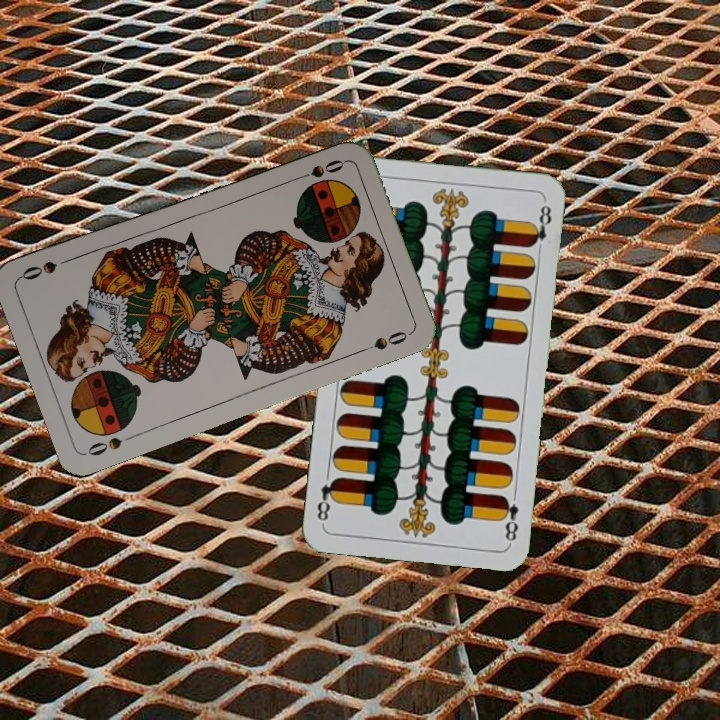E8: (496, 491, 521, 546)
SO: (83, 429, 139, 459), (290, 155, 347, 184)
